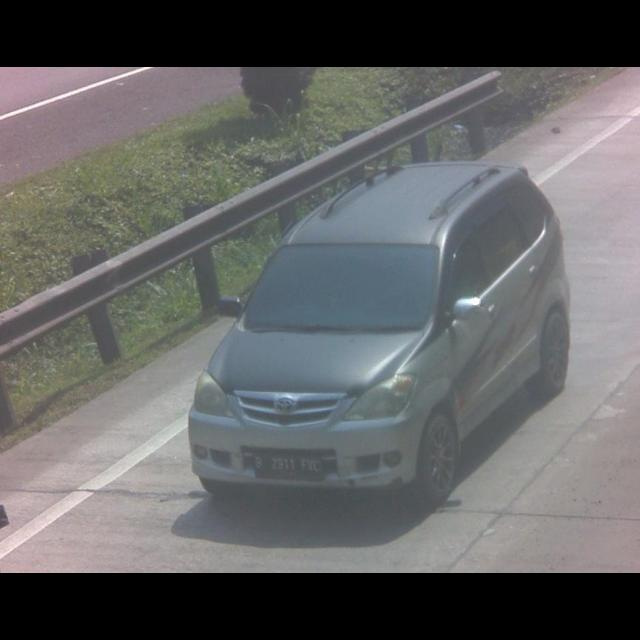plate: (248, 450, 324, 484)
